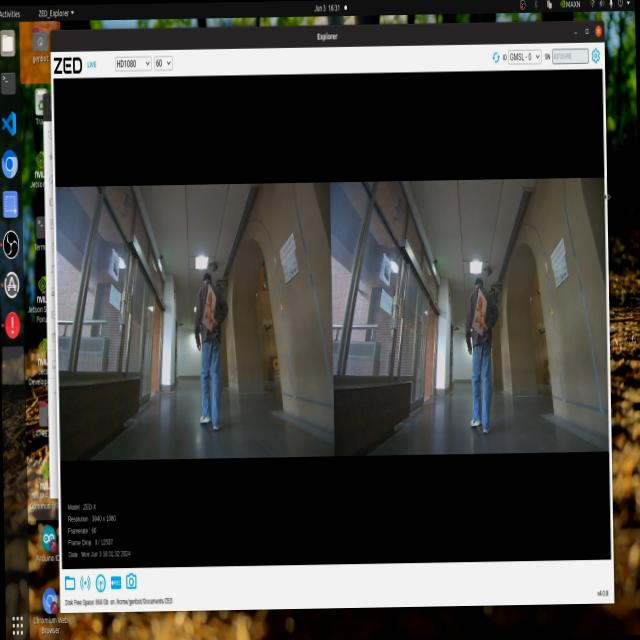red: (468, 293, 488, 335), (196, 289, 217, 328)
